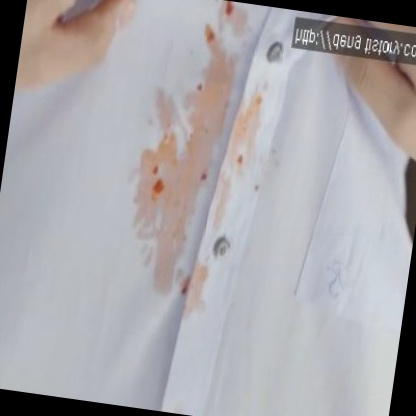kimchi: (123, 0, 299, 328), (149, 159, 176, 211), (176, 271, 203, 304), (227, 145, 251, 170), (217, 0, 239, 20), (193, 166, 210, 188), (247, 186, 260, 202), (191, 85, 205, 99), (202, 35, 212, 46)
